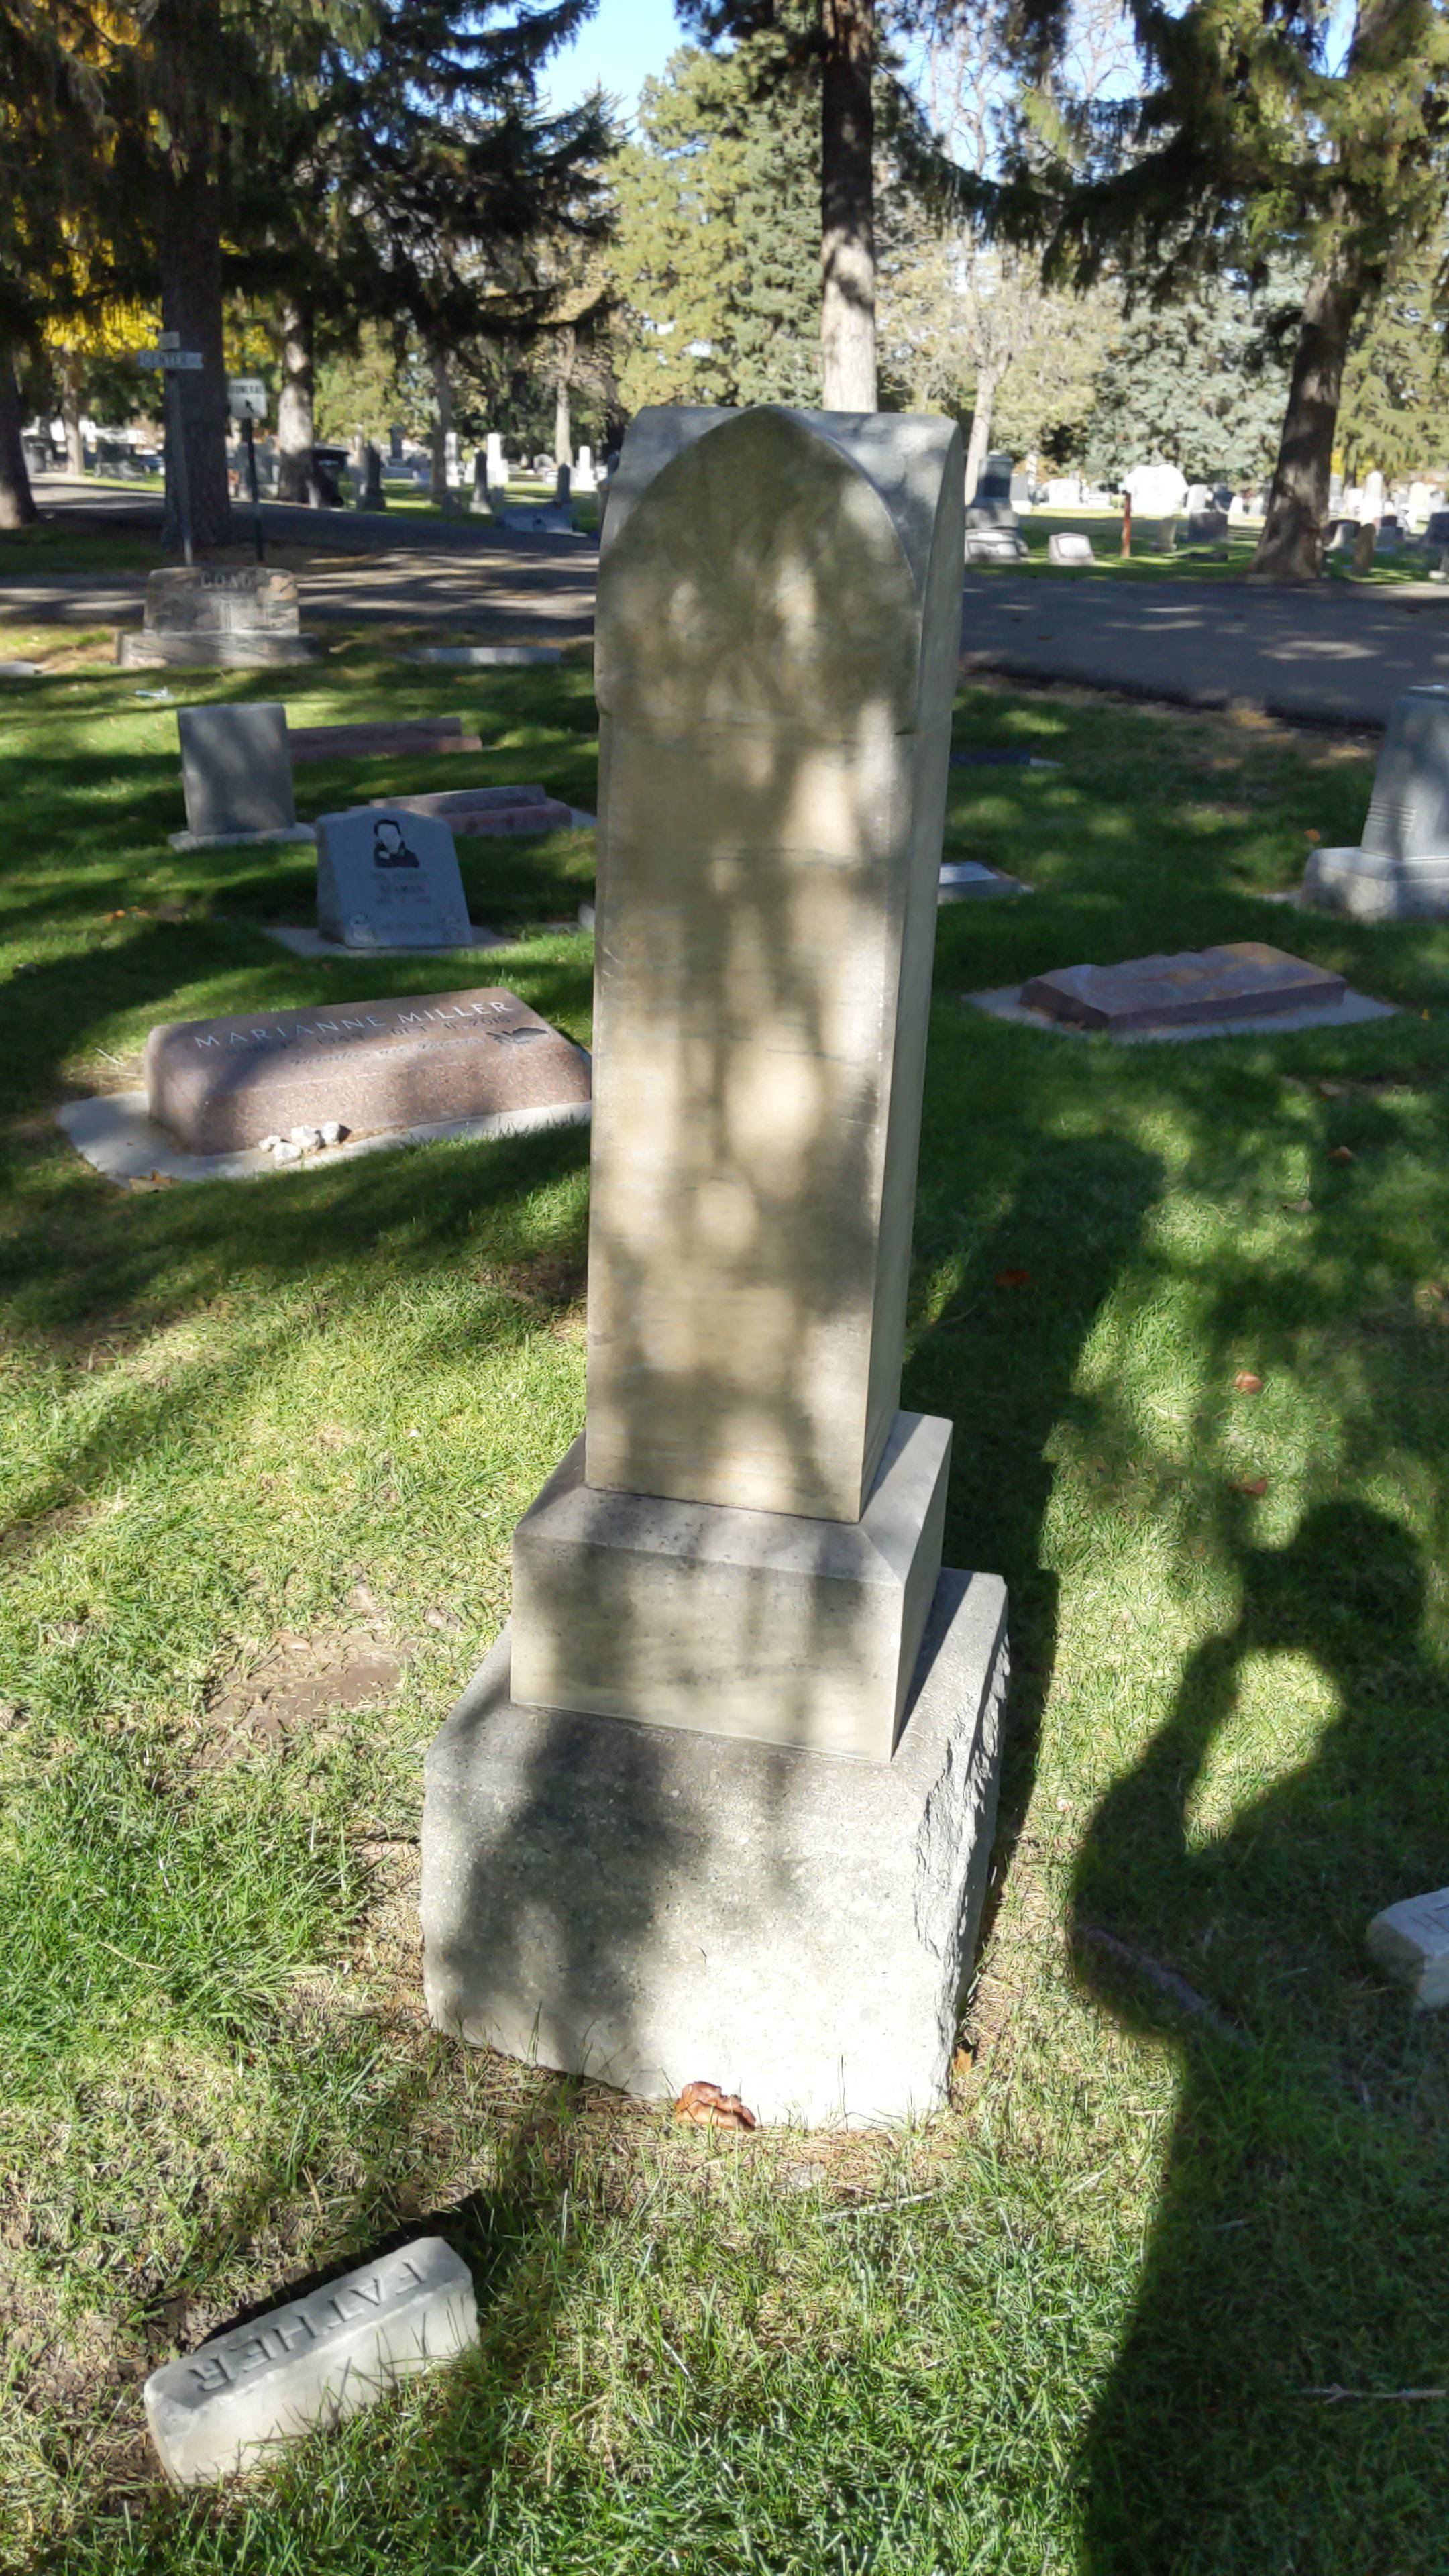obelisk: (508, 409, 947, 1759)
